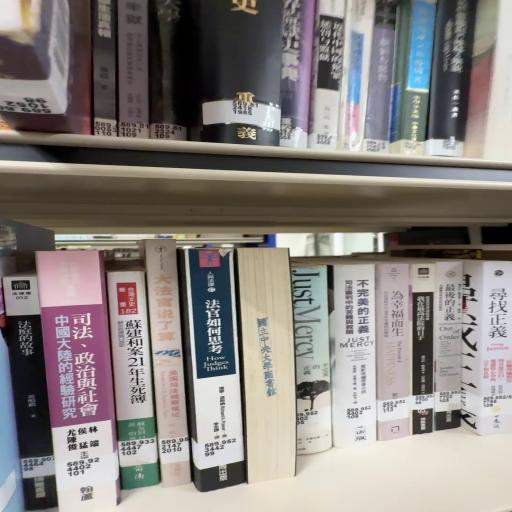backward: (234, 248, 295, 488)
book: (34, 251, 119, 512), (183, 249, 248, 494), (107, 268, 161, 490), (144, 247, 189, 492), (294, 262, 335, 462), (396, 1, 438, 145), (367, 1, 404, 153)
